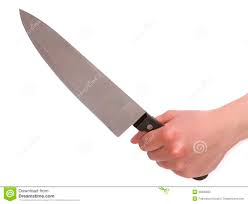knife: (18, 6, 210, 179)
